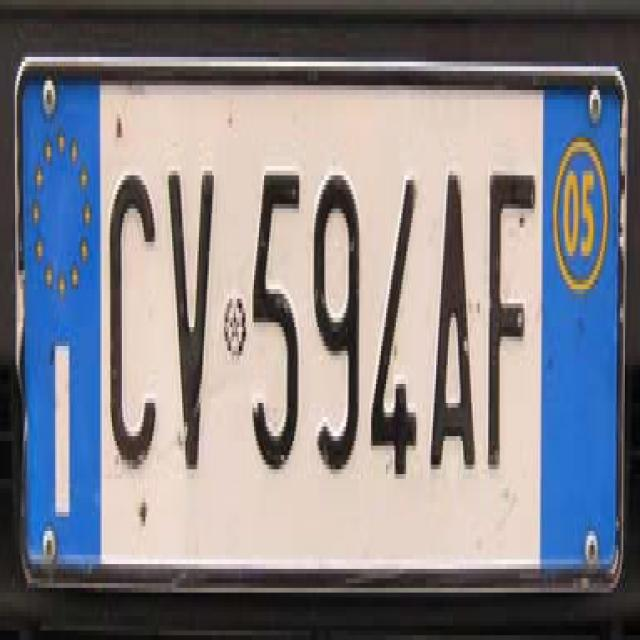EU: (20, 67, 619, 577)
Italie: (19, 70, 102, 568)
